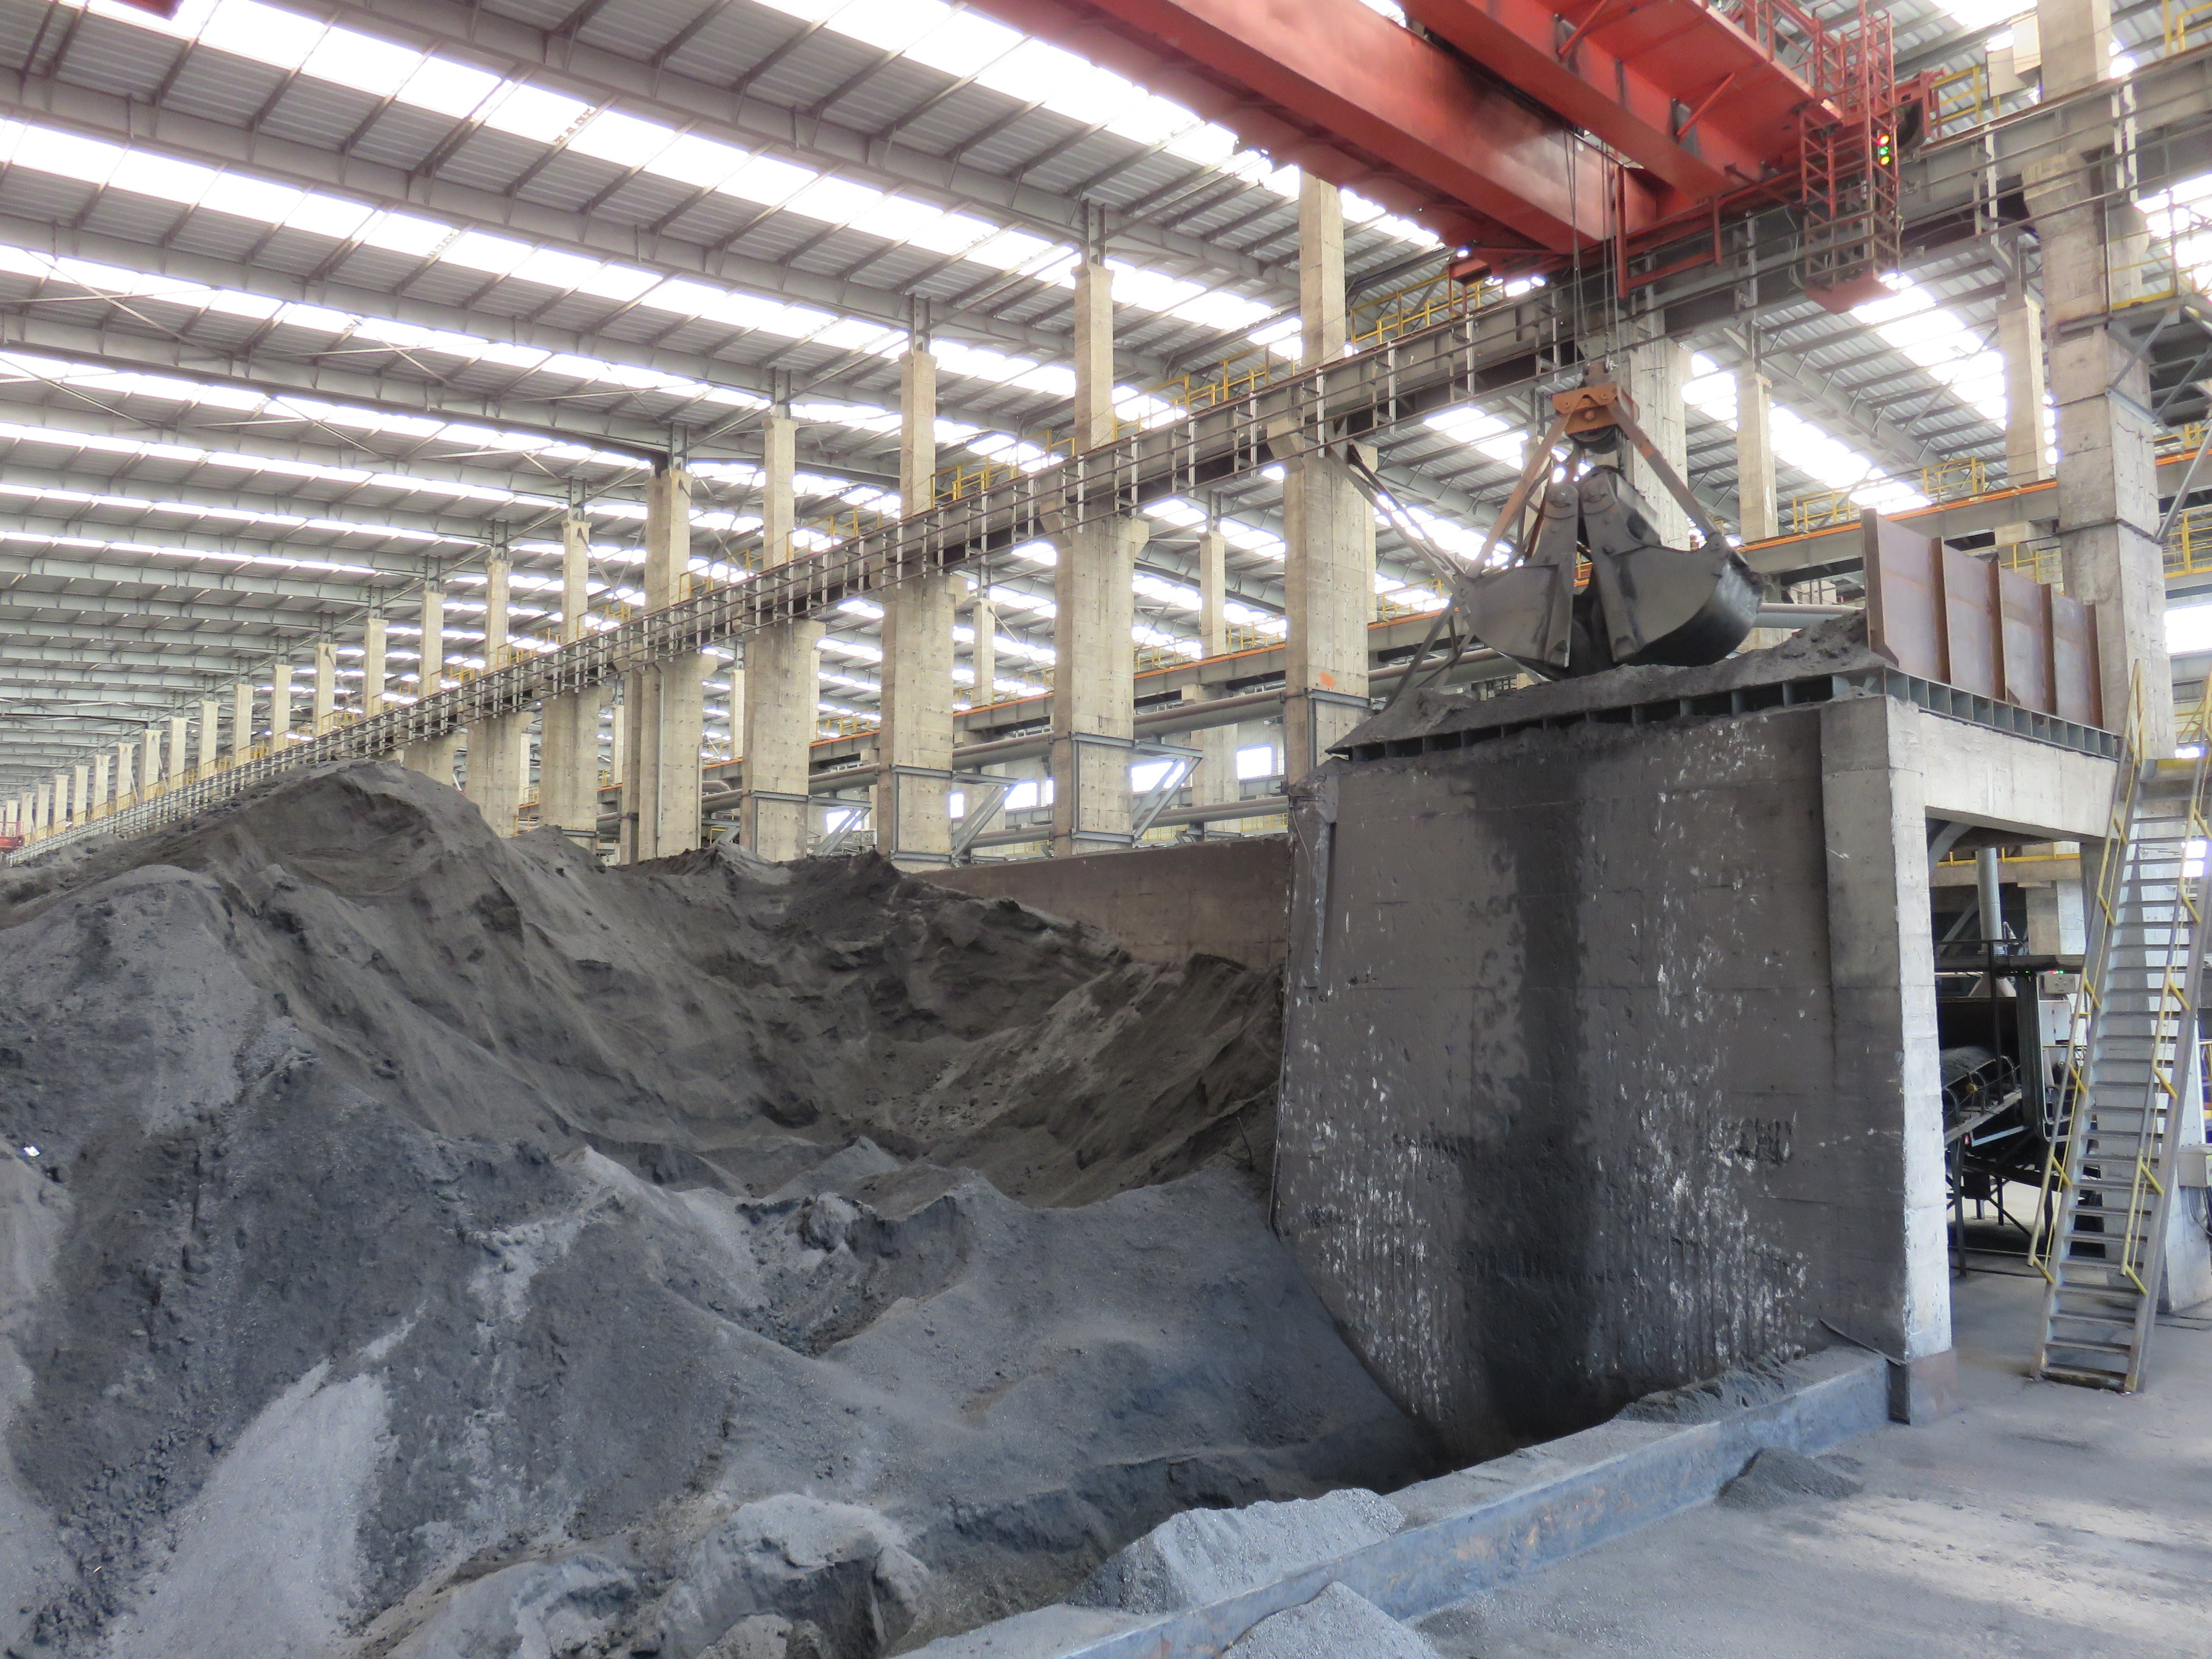grab: (1437, 368, 1775, 683)
